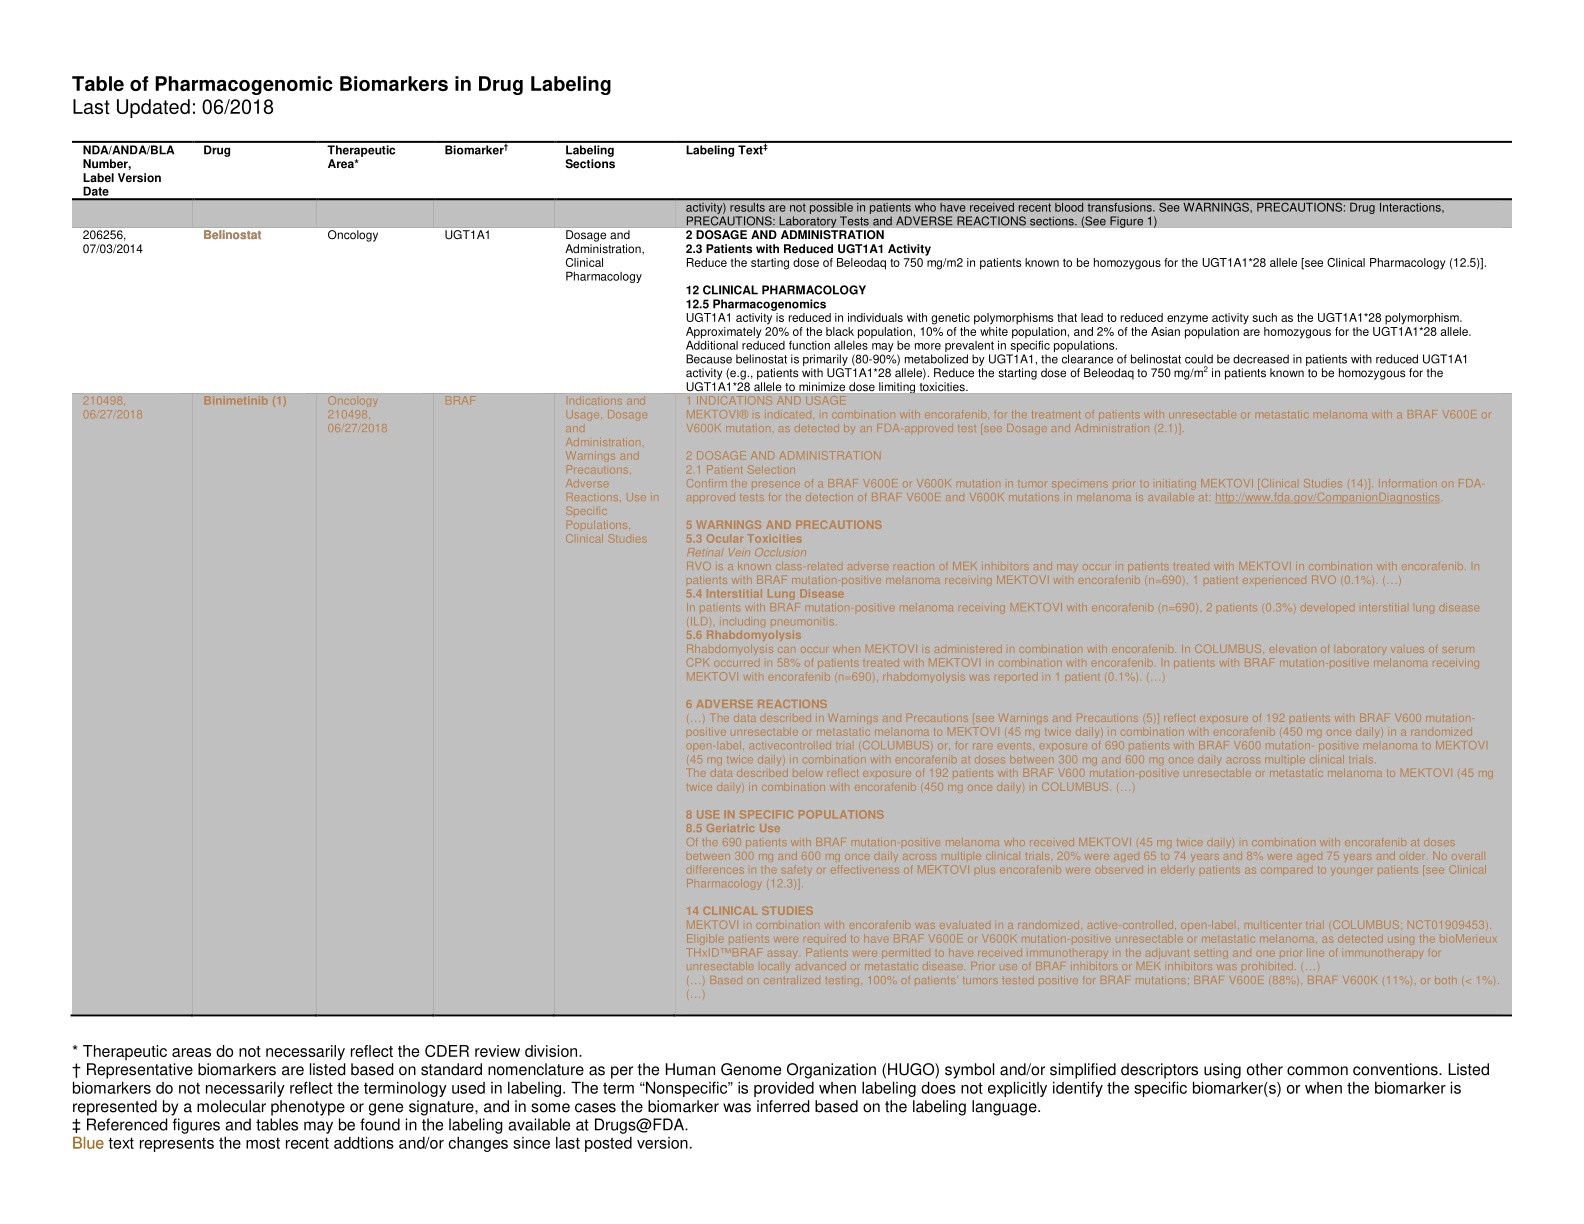partial_lined: (71, 141, 1513, 1020)
